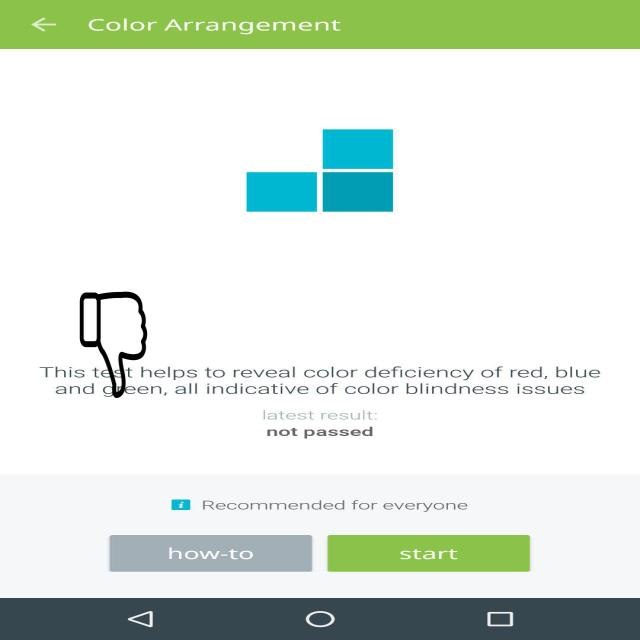obstruction: (79, 292, 148, 398)
